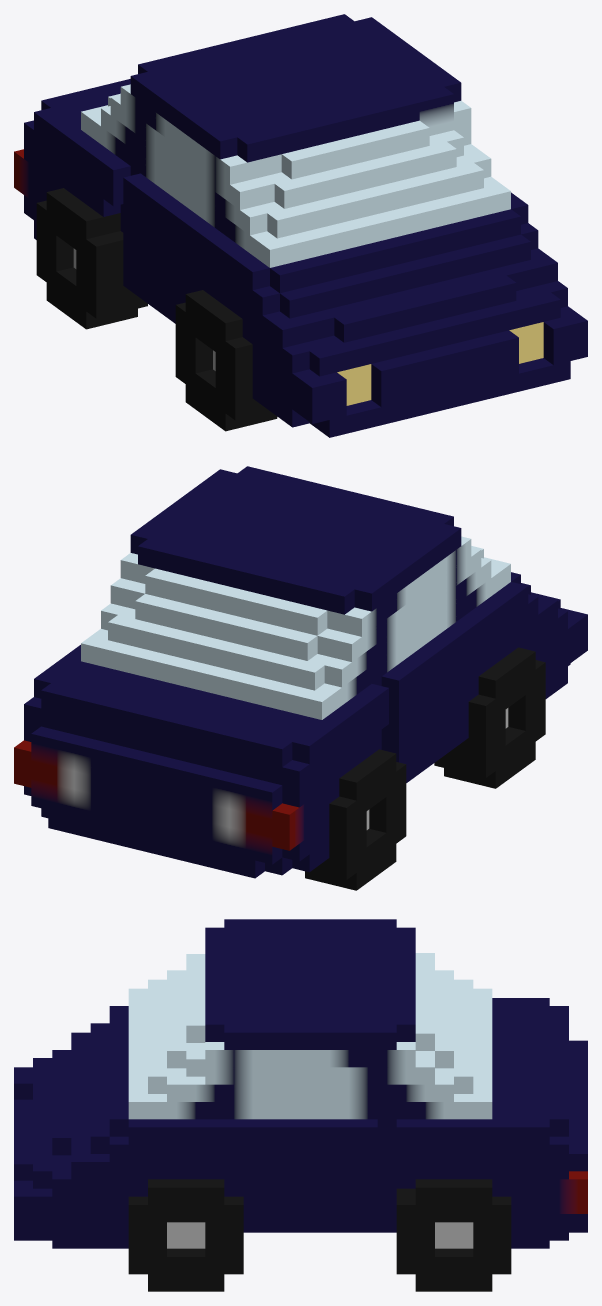
File: Car2.dae
3 renders of one model, top to bottom at view 1: azimuth 30°, elevation 25°; view 2: azimuth 150°, elevation 25°; view 3: azimuth 270°, elevation 25°, orthographic. The views are drawn at different scales.
Parts seen in each view (by area): view 1: Matrix; view 2: Matrix; view 3: Matrix.
Boxes of the visible parts, x1,y1,x2,y2 form: Matrix: (14, 14, 587, 437); Matrix: (14, 466, 587, 890); Matrix: (14, 919, 587, 1291).
Size of the model in its own units: 18 by 14 by 30.
